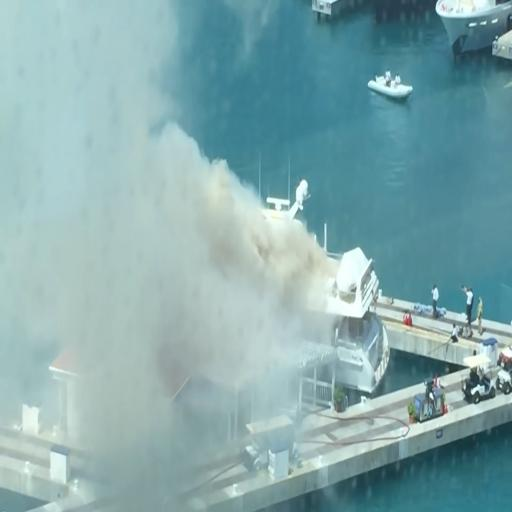smoke: (0, 9, 157, 325), (164, 153, 326, 375), (82, 308, 190, 496)
